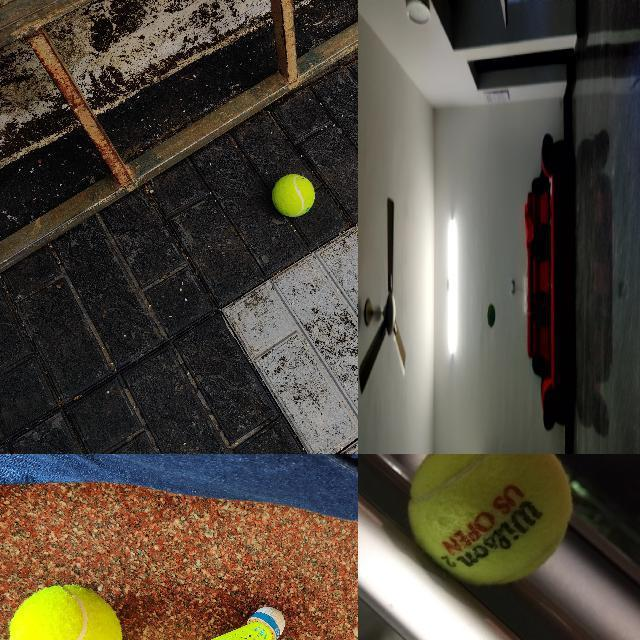tennis-ball: (403, 454, 575, 590), (8, 583, 123, 639), (271, 173, 315, 217), (487, 302, 495, 329)
